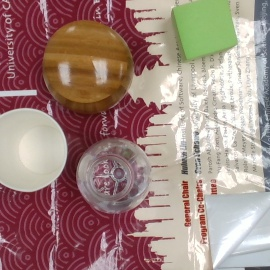bottle: (77, 138, 150, 214)
chess: (43, 21, 135, 114)
cup: (1, 107, 69, 194)
